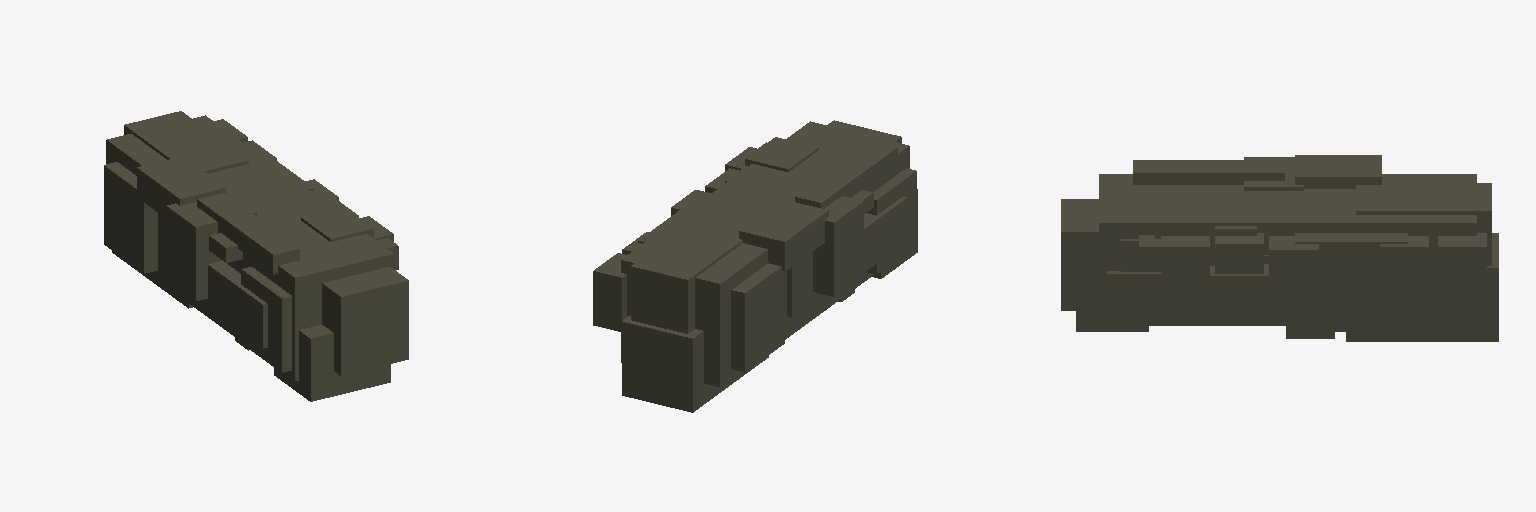
File: zcube_path01.obj
3 views of the same model, side by side, from view 1: azimuth 30°, elevation 25°; view 2: azimuth 150°, elevation 25°; view 3: azimuth 270°, elevation 25° (orthographic).
Visible parts, largest first — view 1: zcube_path01_Box001.033; view 2: zcube_path01_Box001.033; view 3: zcube_path01_Box001.033.
Part boxes in pixels (bbox=[...]): zcube_path01_Box001.033: bbox=[104, 111, 408, 401]; zcube_path01_Box001.033: bbox=[593, 120, 917, 412]; zcube_path01_Box001.033: bbox=[1061, 155, 1498, 341].
Size of the model in its own units: 3.45 by 2.89 by 8.38.